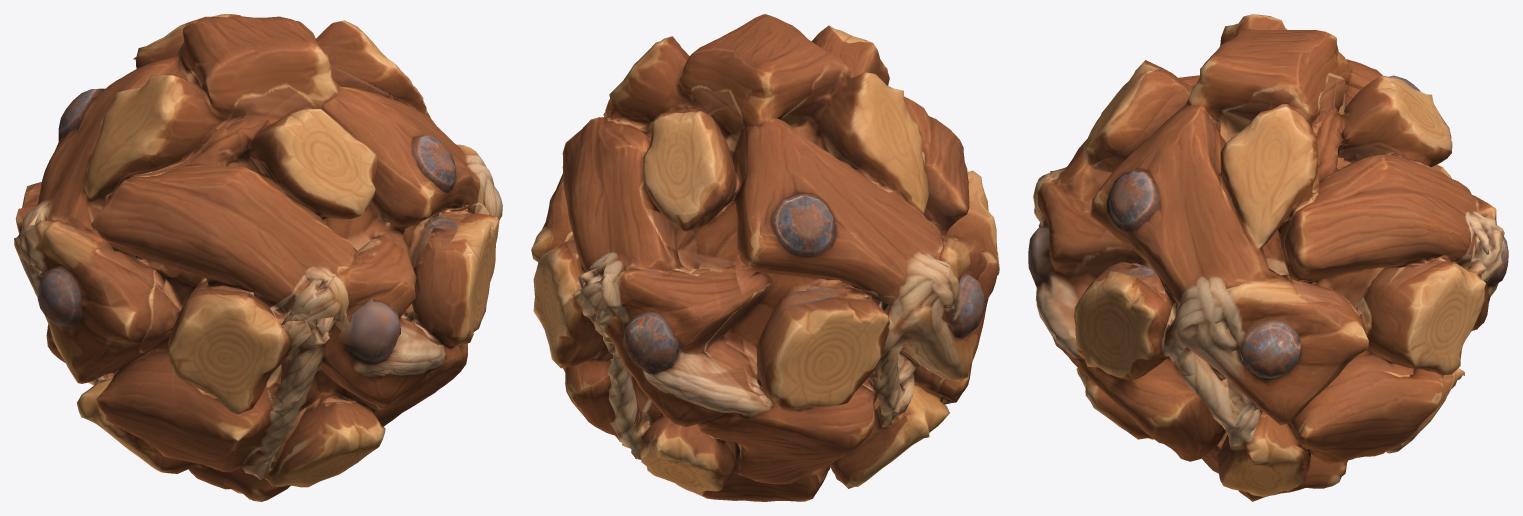
Rendered from Debris_Planks.fbx.
3 renders of one model, left to right at view 1: azimuth 30°, elevation 25°; view 2: azimuth 150°, elevation 25°; view 3: azimuth 270°, elevation 25°, orthographic. The views are drawn at different scales.
Visible parts, largest first — view 1: texture_mapping; view 2: texture_mapping; view 3: texture_mapping.
Boxes of the visible parts, bbox=[...] form: texture_mapping: bbox=[14, 14, 502, 501]; texture_mapping: bbox=[531, 14, 999, 501]; texture_mapping: bbox=[1028, 14, 1508, 501].
Size of the model in its own units: 0.9921 by 0.9958 by 0.9933.
Materials: 1 (1 with a texture image).
